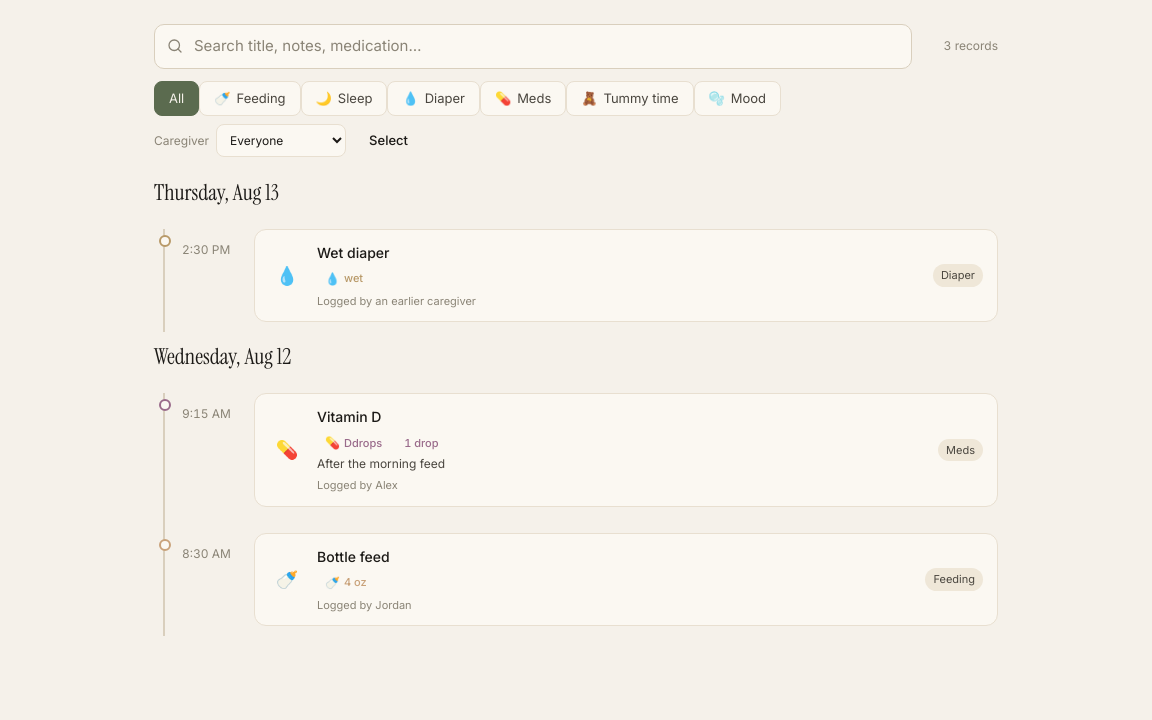
Test case: TodayScreen bulk deletion › preserves the selection and reports a failed delete
This screenshot has width=1152, height=720.
Click the button "Select" at (389, 141), box 354,122 -> 423,160
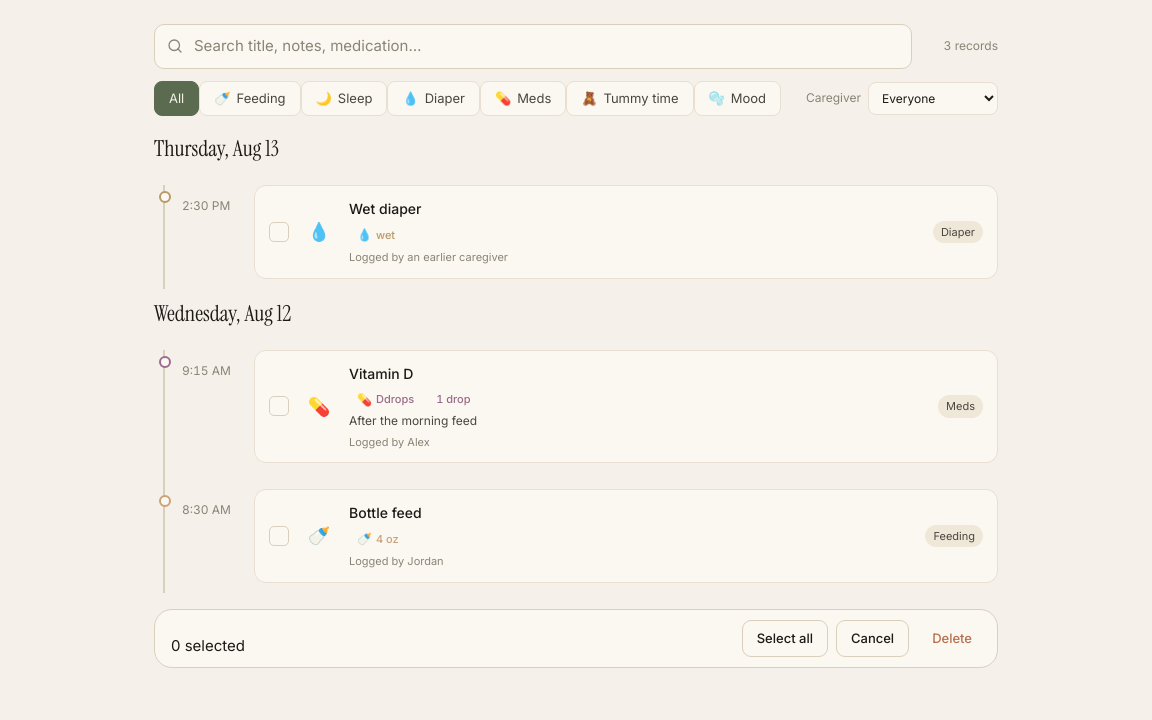
Click the button with aria-label "Select Wet diaper" at (385, 208), box 254,185 -> 998,278
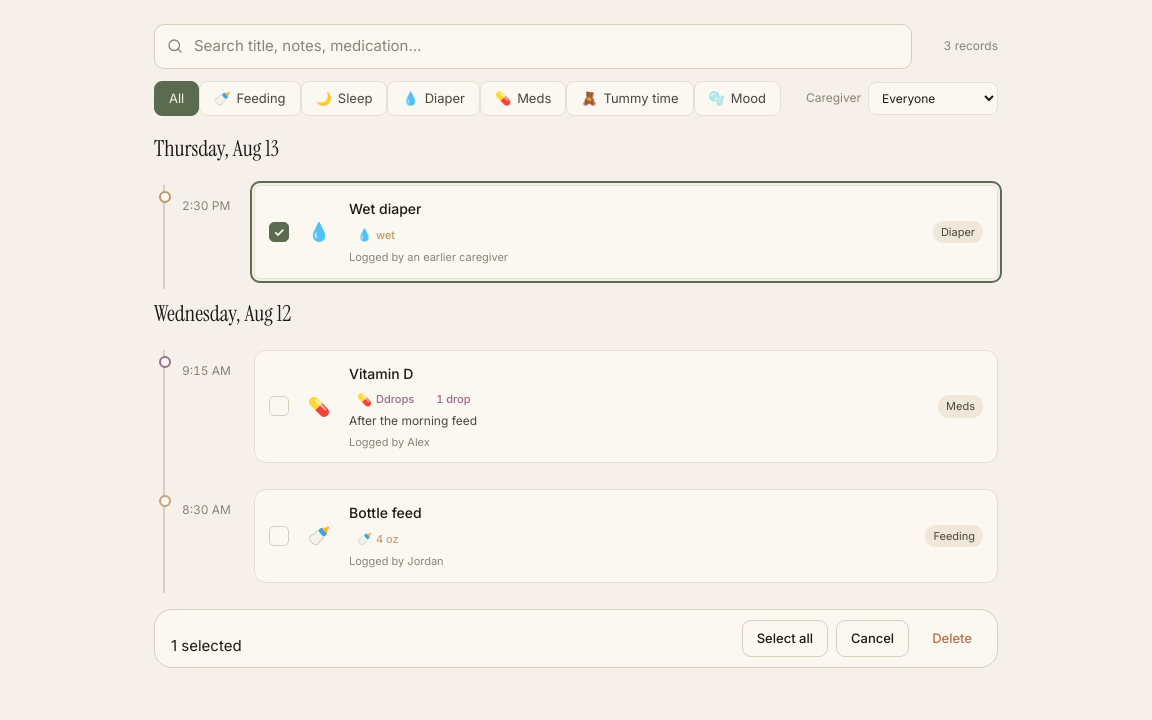
Click the button "Delete" at (952, 638), box 917,620 -> 987,657
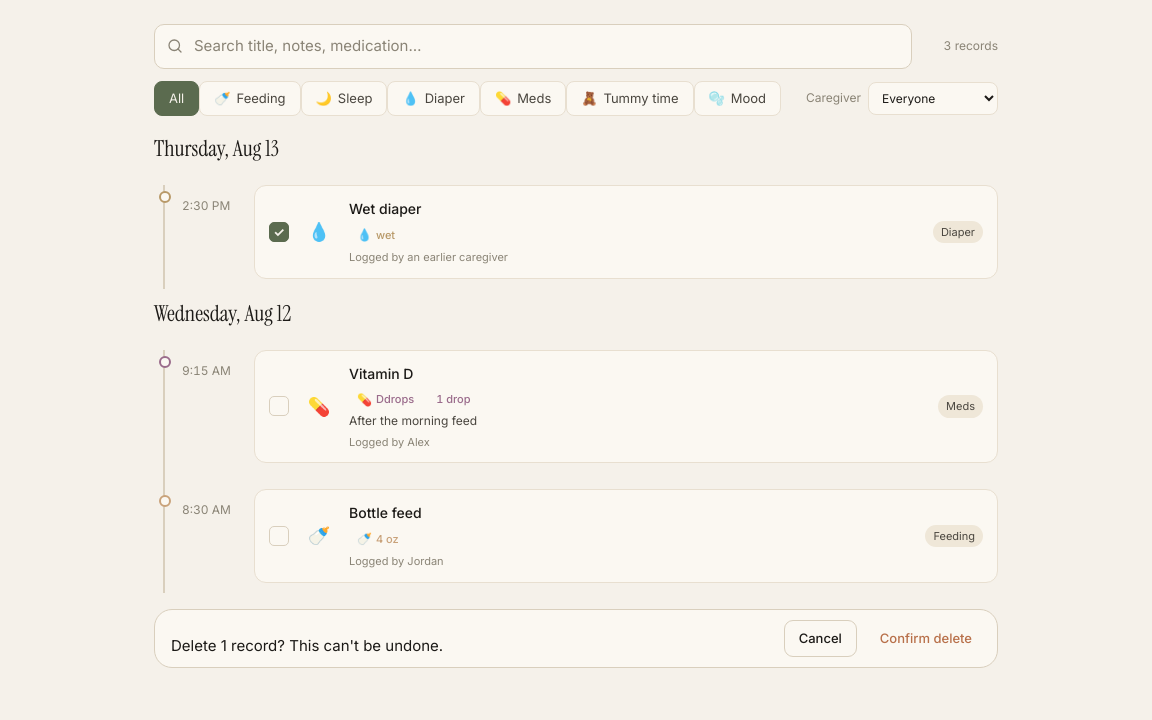
Click the button "Confirm delete" at (926, 638), box 865,620 -> 987,657
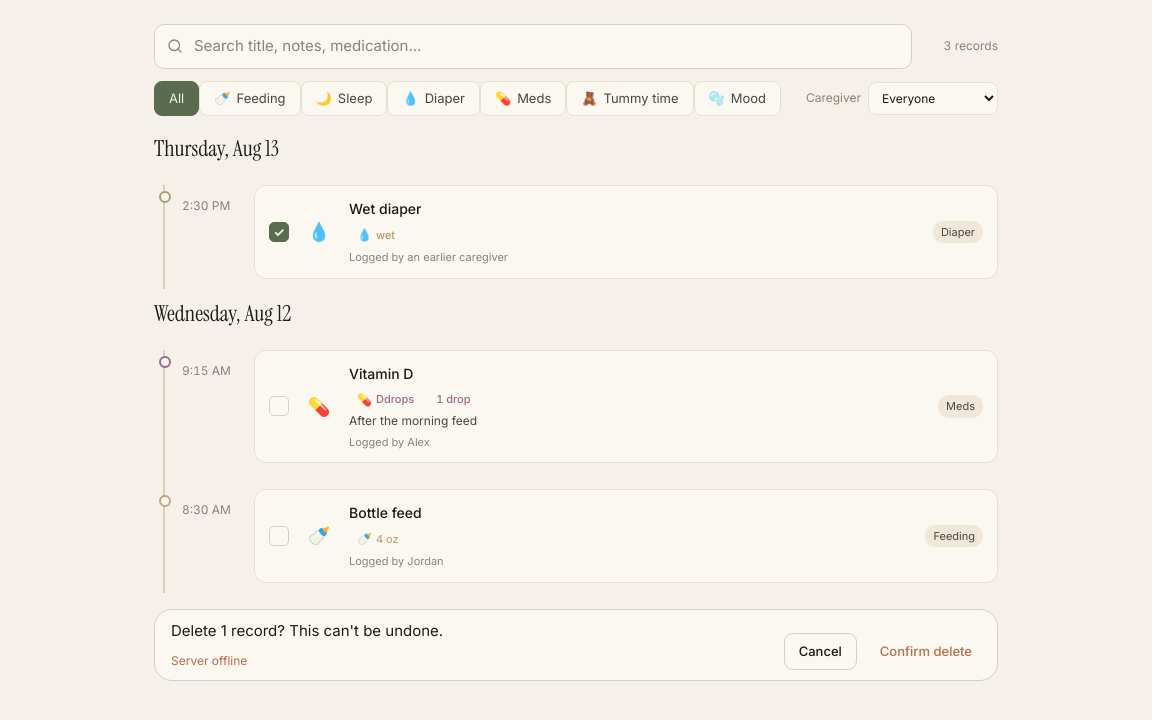
Result: the message "Server offline" is shown at 171,653 -> 247,668
